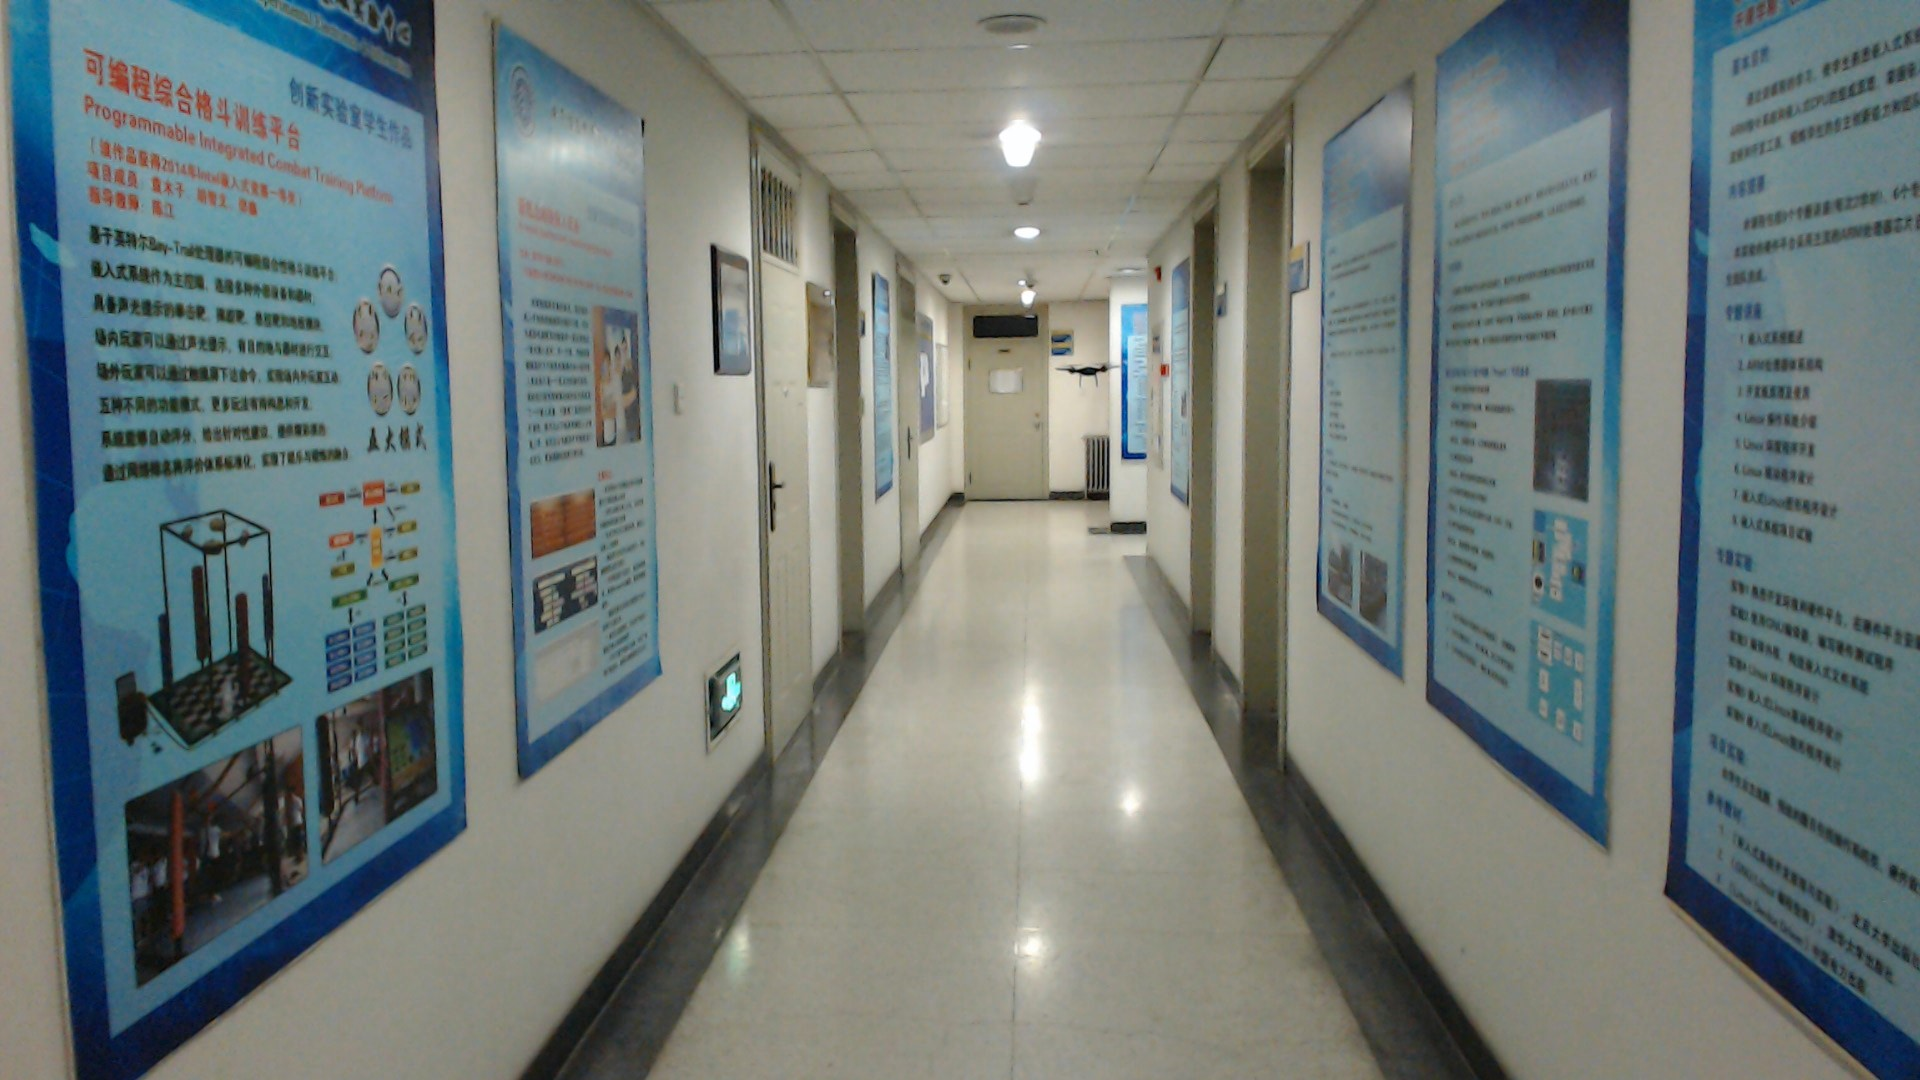drone: (1050, 357, 1131, 388)
